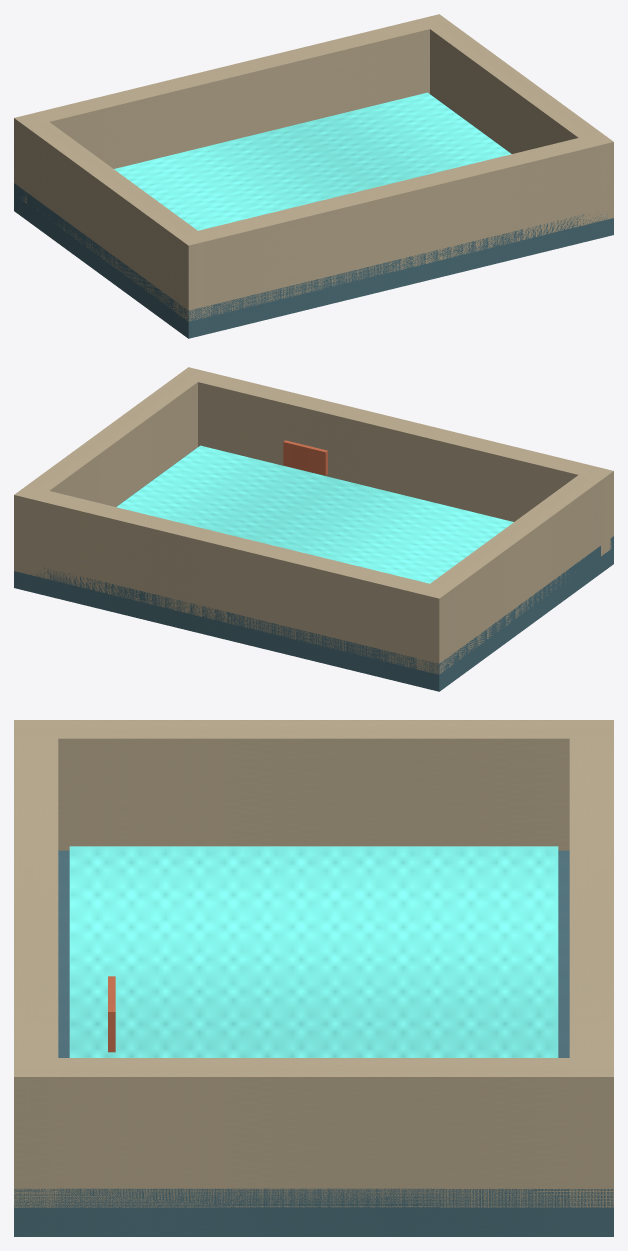
Rendered from atlas100-s042-a01.lod2.glb.
3 renders of one model, top to bottom at view 1: azimuth 30°, elevation 25°; view 2: azimuth 150°, elevation 25°; view 3: azimuth 270°, elevation 25°, orthographic. The views are drawn at different scales.
Visible parts, largest first — view 1: atlas100-s042-a01:part-005, atlas100-s042-a01:part-004, atlas100-s042-a01:part-001, atlas100-s042-a01:part-002, atlas100-s042-a01:part-000, atlas100-s042-a01:part-003; view 2: atlas100-s042-a01:part-004, atlas100-s042-a01:part-005, atlas100-s042-a01:part-001, atlas100-s042-a01:part-002, atlas100-s042-a01:part-000, atlas100-s042-a01:part-003, atlas100-s042-a01:part-006; view 3: atlas100-s042-a01:part-001, atlas100-s042-a01:part-003, atlas100-s042-a01:part-002, atlas100-s042-a01:part-000, atlas100-s042-a01:part-004, atlas100-s042-a01:part-005.
Part boxes in pixels (x1=…): atlas100-s042-a01:part-005: x1=175, y1=132, x2=613, y2=320; atlas100-s042-a01:part-004: x1=14, y1=14, x2=450, y2=203; atlas100-s042-a01:part-001: x1=114, y1=92, x2=511, y2=230; atlas100-s042-a01:part-002: x1=14, y1=112, x2=210, y2=321; atlas100-s042-a01:part-000: x1=14, y1=94, x2=613, y2=338; atlas100-s042-a01:part-003: x1=418, y1=14, x2=613, y2=220; atlas100-s042-a01:part-004: x1=14, y1=485, x2=452, y2=673; atlas100-s042-a01:part-005: x1=176, y1=367, x2=613, y2=556; atlas100-s042-a01:part-001: x1=116, y1=445, x2=513, y2=583; atlas100-s042-a01:part-002: x1=417, y1=465, x2=613, y2=674; atlas100-s042-a01:part-000: x1=14, y1=447, x2=613, y2=691; atlas100-s042-a01:part-003: x1=14, y1=367, x2=210, y2=576; atlas100-s042-a01:part-006: x1=283, y1=440, x2=327, y2=475; atlas100-s042-a01:part-001: x1=69, y1=846, x2=558, y2=1057; atlas100-s042-a01:part-003: x1=14, y1=1058, x2=613, y2=1207; atlas100-s042-a01:part-002: x1=14, y1=720, x2=613, y2=850; atlas100-s042-a01:part-000: x1=14, y1=850, x2=613, y2=1236; atlas100-s042-a01:part-004: x1=569, y1=720, x2=613, y2=1207; atlas100-s042-a01:part-005: x1=14, y1=720, x2=58, y2=1207.
Size of the model in its own units: 3.8 by 0.795 by 2.7.
4 materials, 4 textured.
